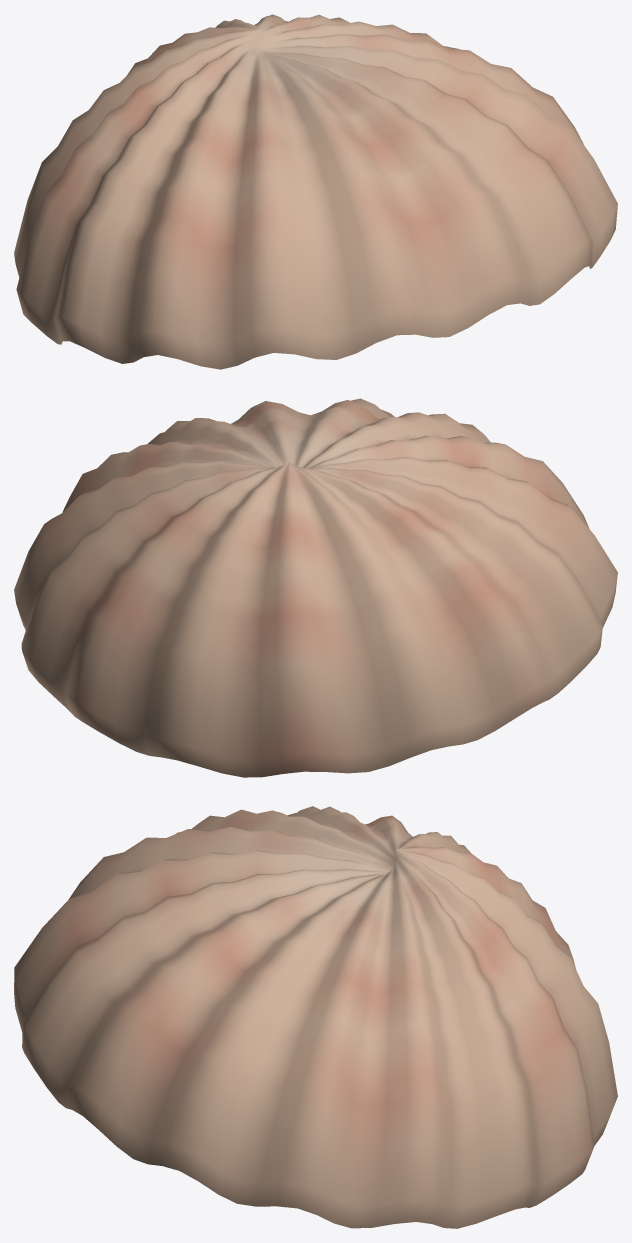
The model's file is prop-shell-cockle.glb.
3 views of the same model, one above another, from view 1: azimuth 30°, elevation 25°; view 2: azimuth 150°, elevation 25°; view 3: azimuth 270°, elevation 25° (orthographic). The views are drawn at different scales.
Parts seen in each view (by area): view 1: body; view 2: body; view 3: body.
Boxes of the visible parts, bbox=[...] form: body: bbox=[14, 14, 617, 369]; body: bbox=[14, 398, 617, 777]; body: bbox=[14, 806, 617, 1228].
Bounding box in the file's own units: 0.0362 × 0.0165 × 0.0327.
